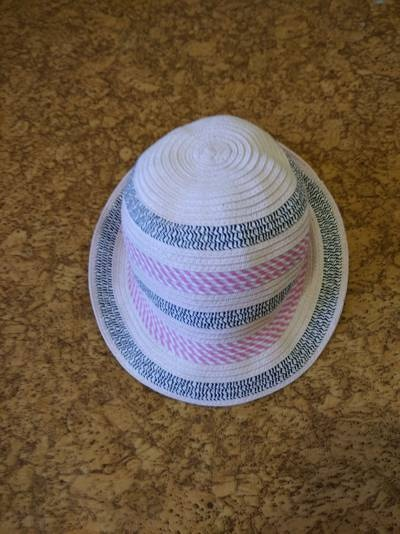Hat: (75, 91, 349, 403)
